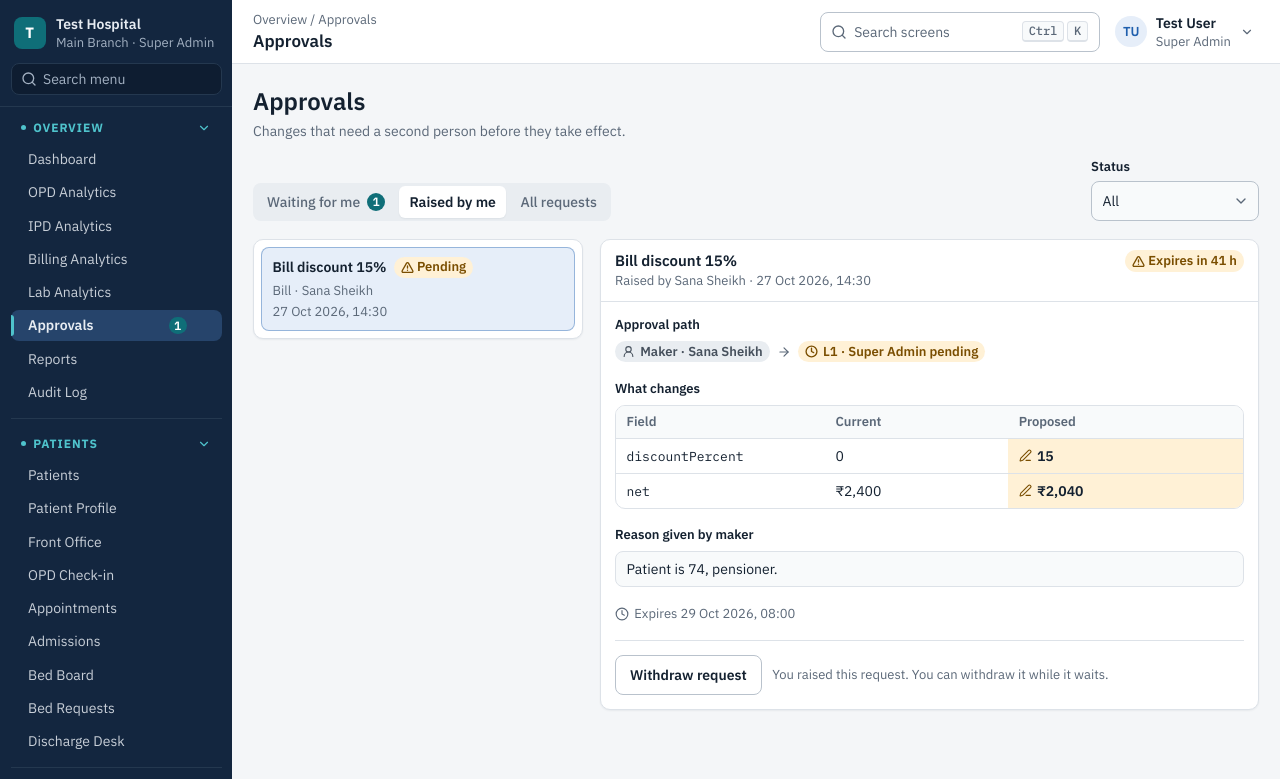
Test: Approvals inbox › lets the maker withdraw from "Raised by me"
Expected: the heading "Bill discount 15%" is shown, [615,251,737,270]
What coordinates should you click on to do the following:
click the button "Withdraw request"
I would click on:
 (688, 675)
Its box is [615,655,762,695].
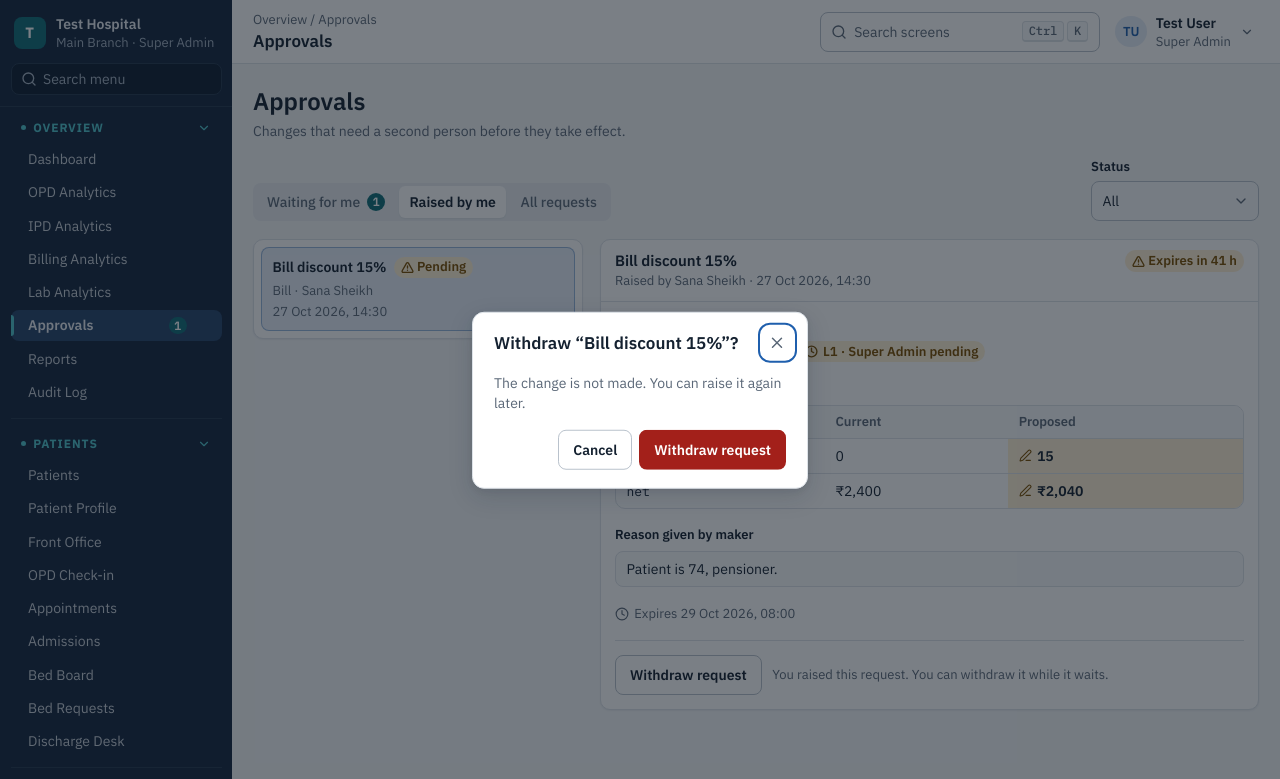
What coordinates should you click on to do the following:
click the button "Withdraw request"
I would click on:
 (713, 450)
Its box is [639,430,786,470].
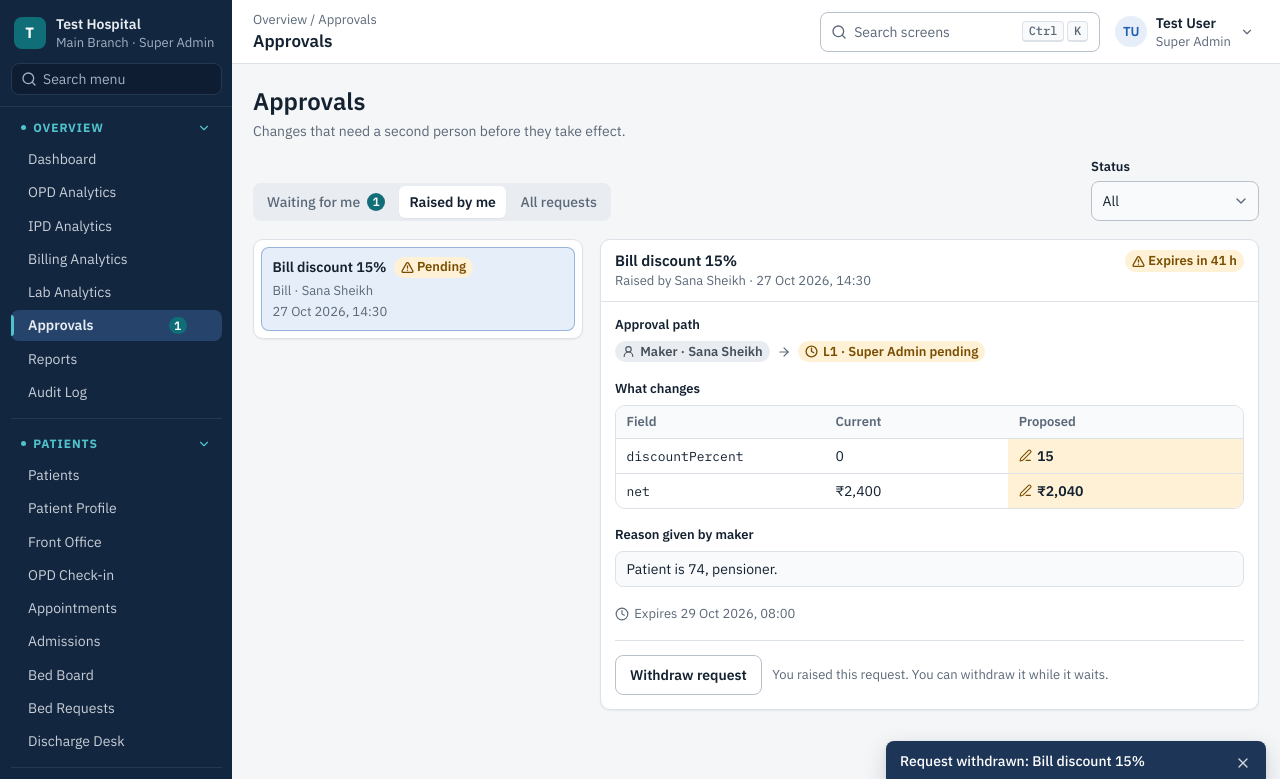
Expected: the text "Request withdrawn: Bill discount 15%" is shown, [900,752,1145,770]
